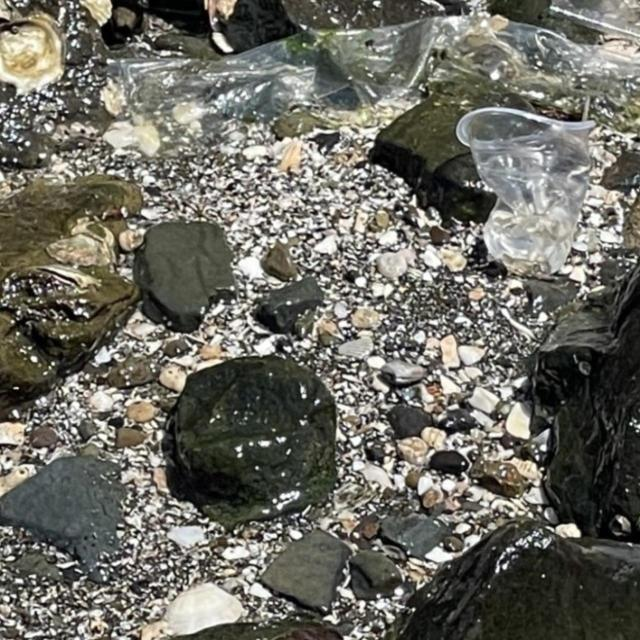plastic_waste: (455, 105, 598, 281)
